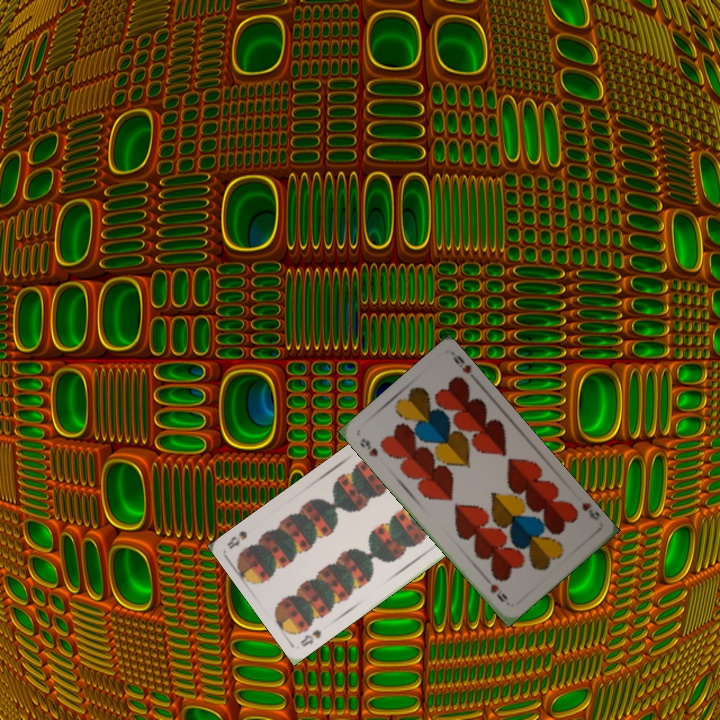H9: (356, 434, 381, 459), (578, 498, 602, 523)
S8: (296, 625, 324, 649)
